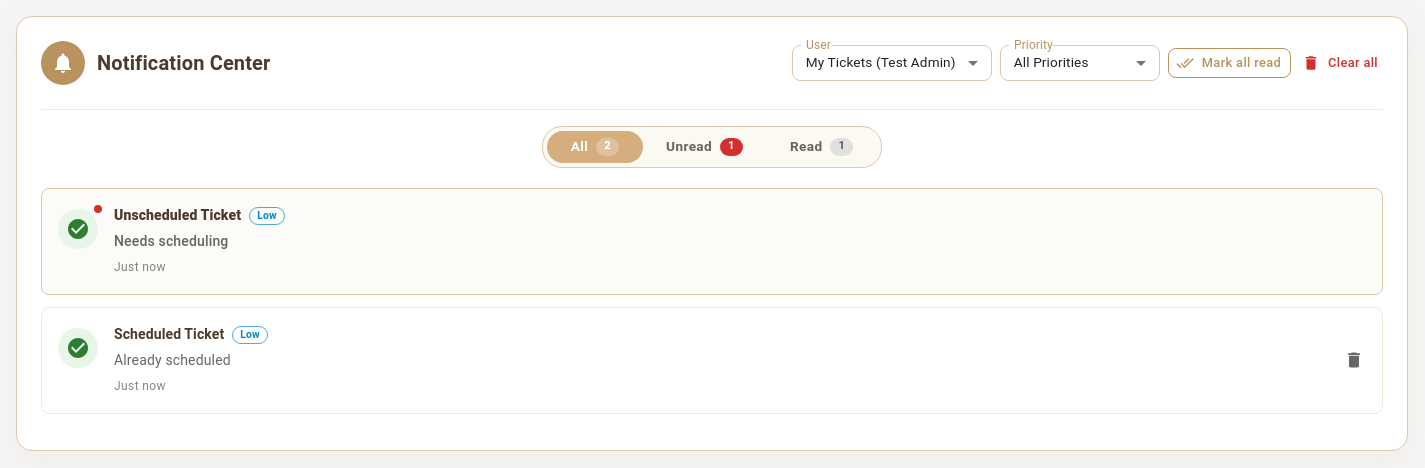
Test: NotificationScreen Component › displays unscheduled tickets in Unread tab and confirmed/scheduled tickets in Read tab
Expected: the heading "Unscheduled Ticket" is shown, 114,205 -> 241,227
Expected: the heading "Scheduled Ticket" is shown, 114,324 -> 224,346
# Unread tab shows only Unscheduled Ticket
Click the button "Unread 1" at {"x": 705, "y": 147}, box 642,131 -> 767,163
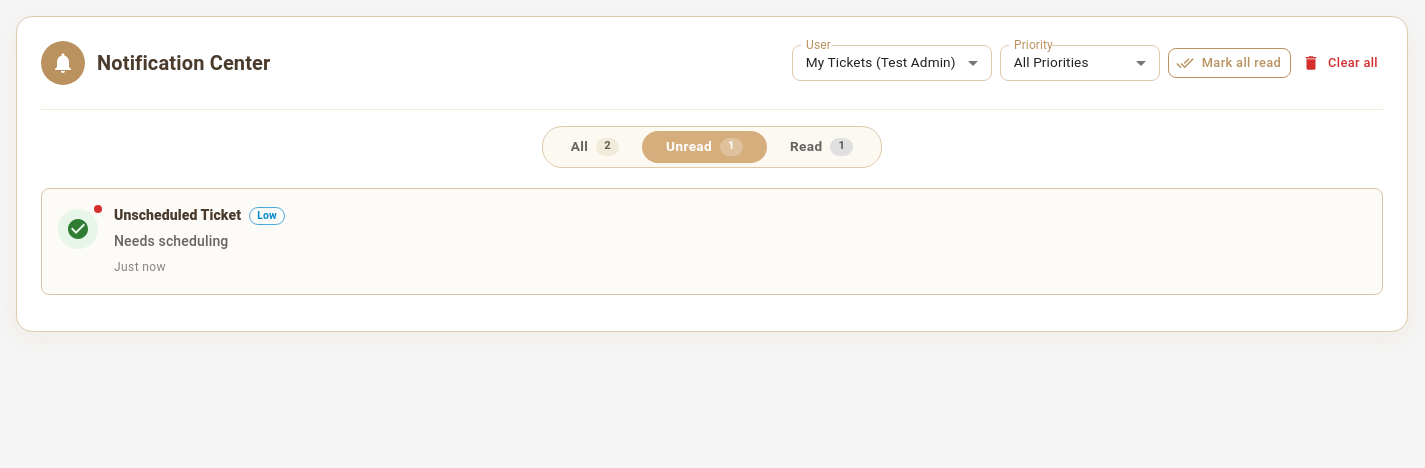
Expected: the heading "Unscheduled Ticket" is shown, 114,205 -> 241,227
# Read tab shows only Scheduled Ticket
Click the button "Read 1" at {"x": 822, "y": 147}, box 766,131 -> 877,163
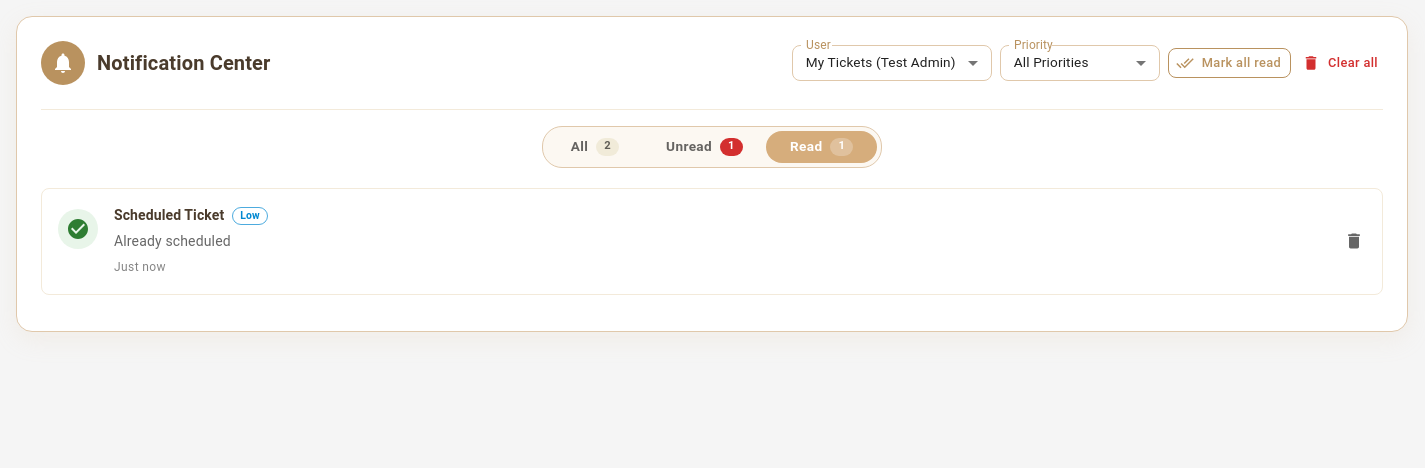
Expected: the heading "Scheduled Ticket" is shown, 114,205 -> 224,227
Expected: the heading "Unscheduled Ticket" is gone
